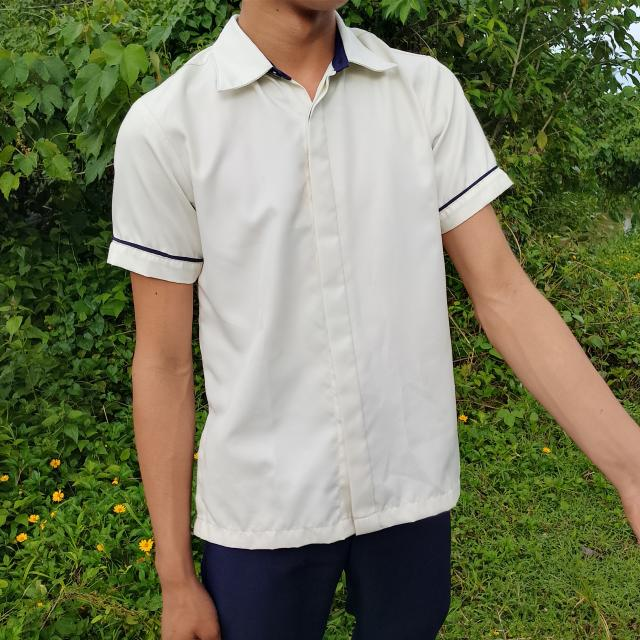education_male_uniform: (108, 0, 480, 627)
